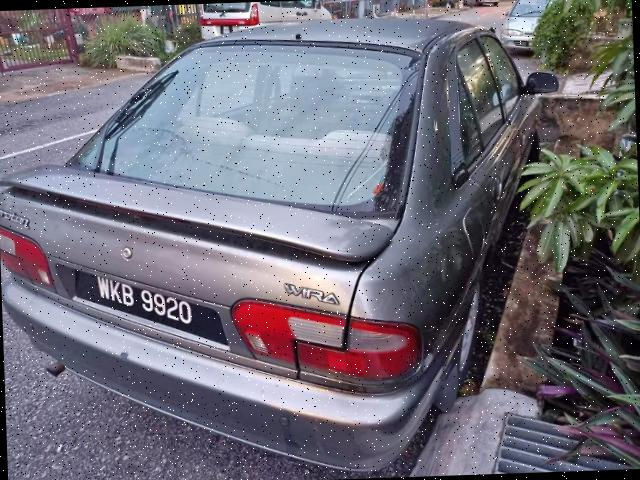License_Plate: (69, 262, 211, 346)
car: (1, 10, 581, 480)
